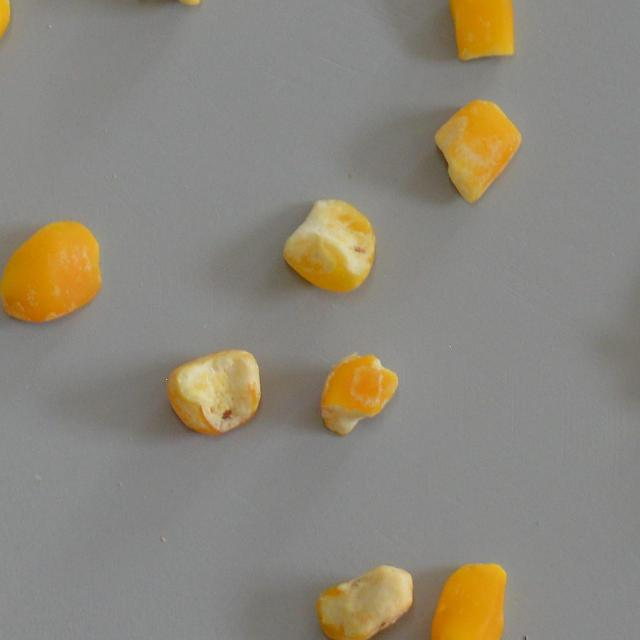dañado: (0, 218, 104, 328), (280, 192, 378, 296), (164, 346, 262, 437), (310, 564, 416, 640), (316, 345, 400, 438), (427, 554, 507, 640)
pelicula: (432, 93, 525, 208), (446, 0, 521, 63), (0, 0, 16, 66)
